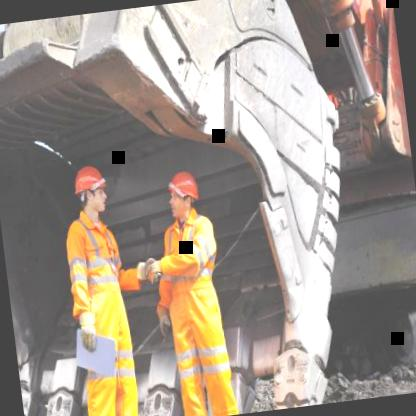helmet: (67, 158, 114, 222), (162, 164, 204, 223)
